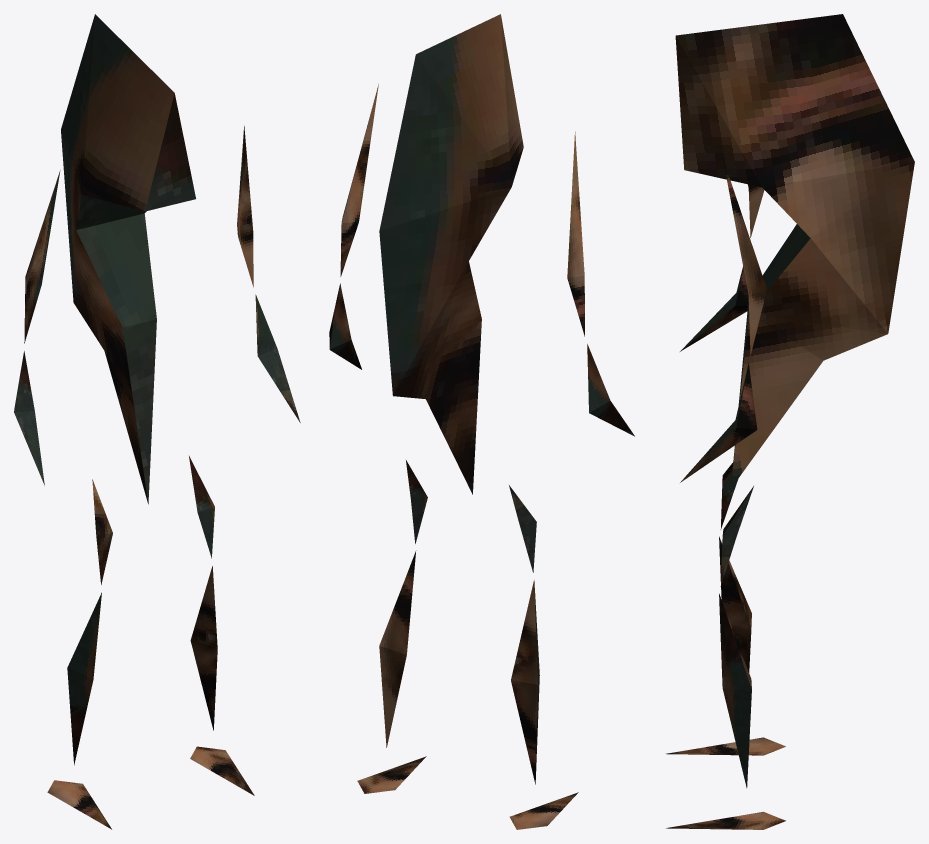
Rendered from MaskMan.obj.
The picture shows the model from 3 angles, left to right: view 1: azimuth 30°, elevation 25°; view 2: azimuth 150°, elevation 25°; view 3: azimuth 270°, elevation 25°; orthographic projection. The views are drawn at different scales.
Visible parts, largest first — view 1: Cone; view 2: Cone; view 3: Cone.
Boxes of the visible parts, x1,y1,x2,y2 form: Cone: (14, 14, 300, 829); Cone: (329, 14, 634, 829); Cone: (666, 14, 914, 829).
Size of the model in its own units: 1.09 by 2.92 by 0.8553.
